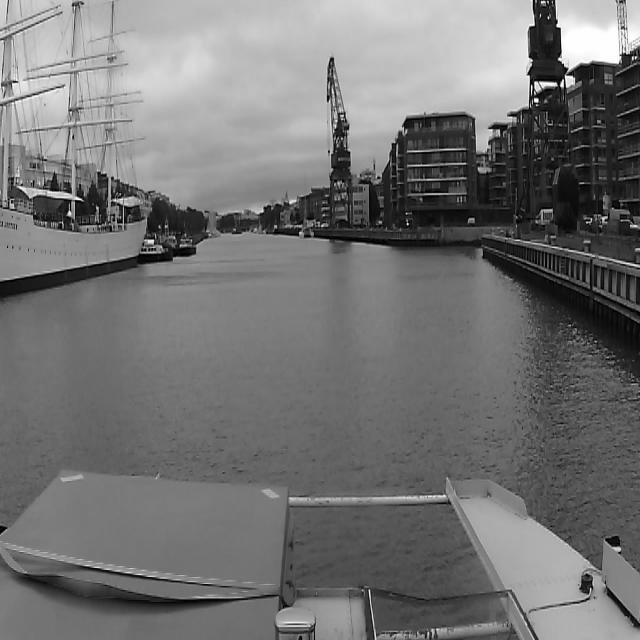ship: (11, 11, 148, 302), (139, 242, 174, 264), (175, 235, 197, 254)
